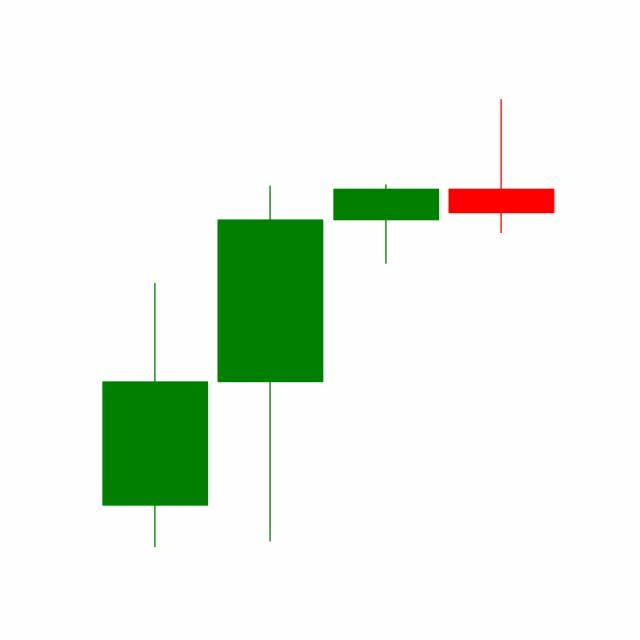Gravestone Doji: (444, 98, 560, 235)
